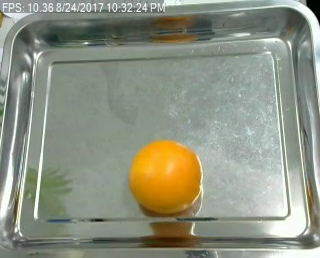Orange: (129, 140, 202, 213)
